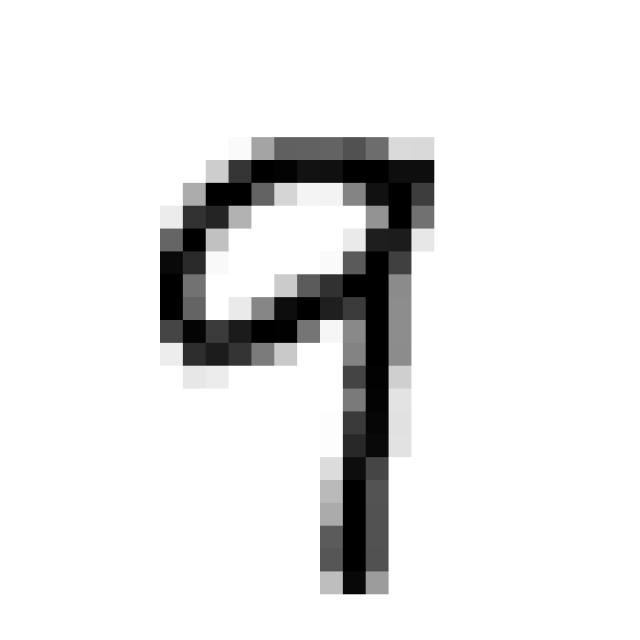9 -nine-: (130, 103, 446, 606)
